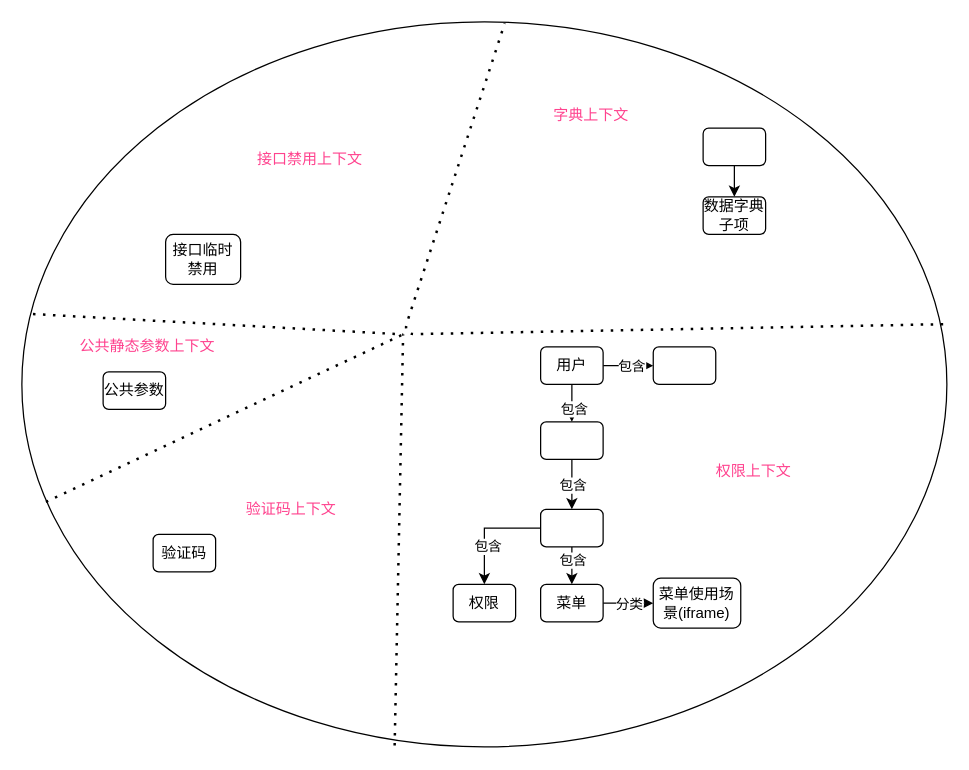
This 969x770 diagram has some shape labels left out. The centre of each missing label's shape, as x and y in pixels:
token: (x=684, y=365)
数据字典: (x=734, y=146)
角色: (x=571, y=440)
部门: (x=571, y=527)
